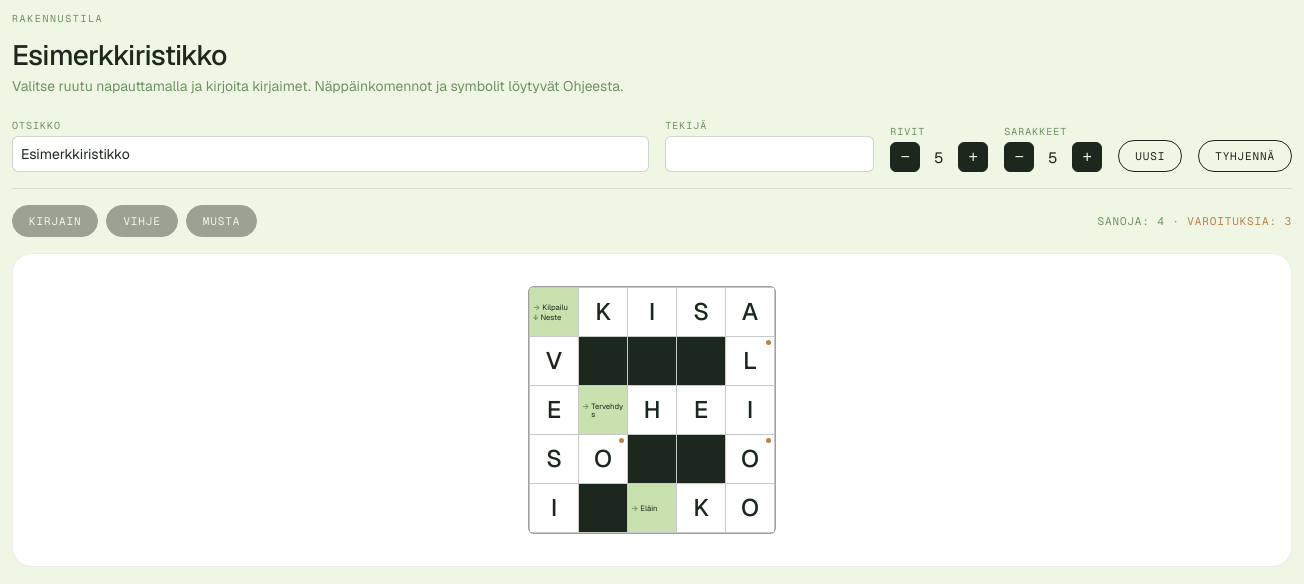
Test: BuildMode — letter entry › advances along the active slot after typing
This screenshot has width=1304, height=584.
Click the 1st cell "K".
click(603, 312)  # box [579,288,627,336]
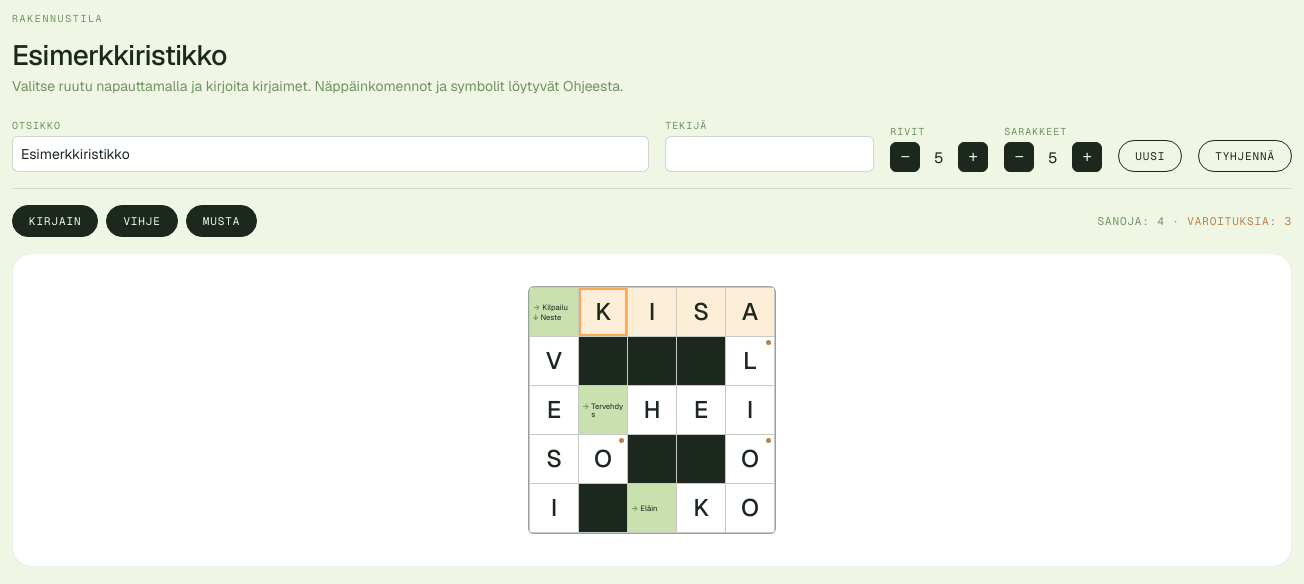
Press q in the element named "Ristikon ruudukko", box [12,253,1292,567]
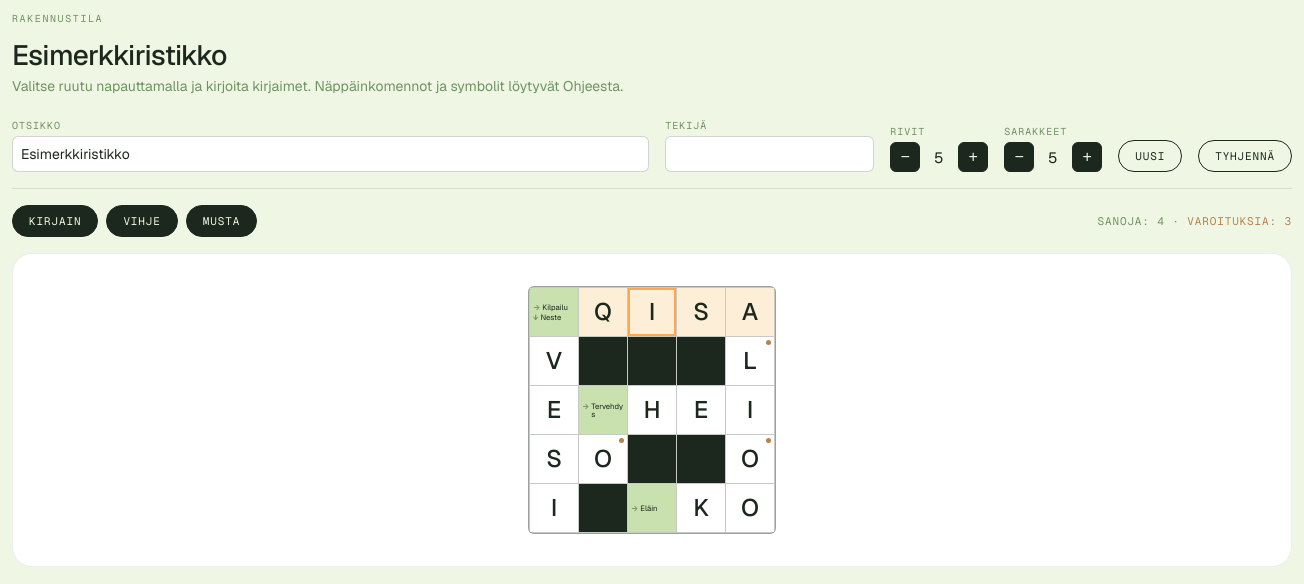
Press w in the element named "Ristikon ruudukko", box [12,253,1292,567]
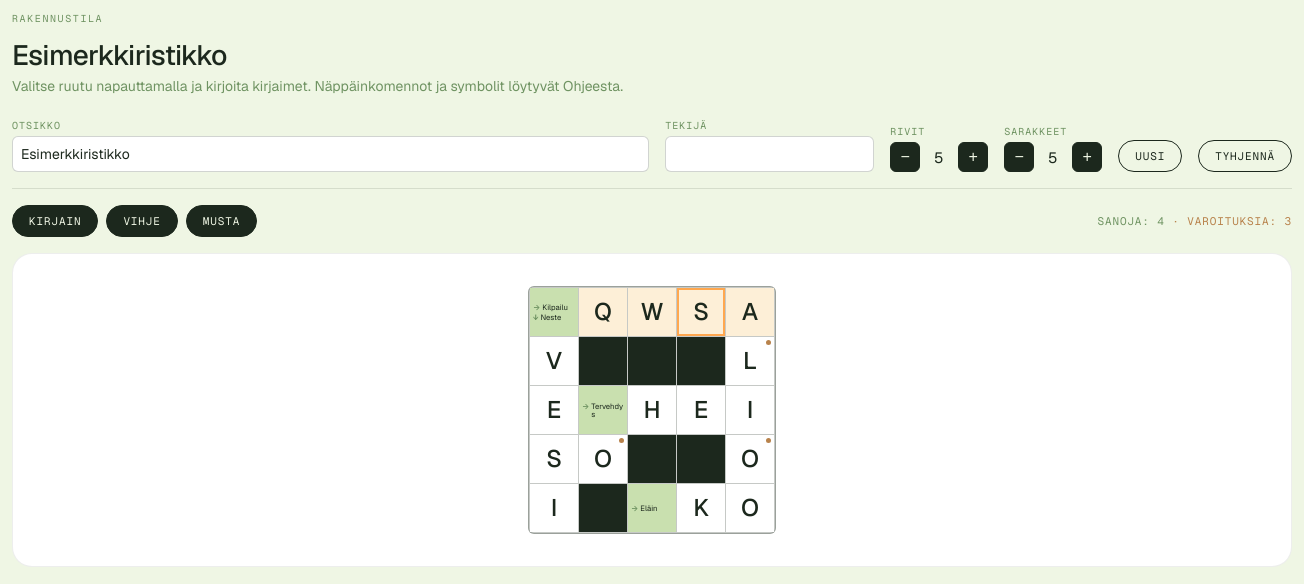
Now the cell "Q" is shown, box [579,288,627,336]
Now the cell "W" is shown, box [628,288,676,336]
